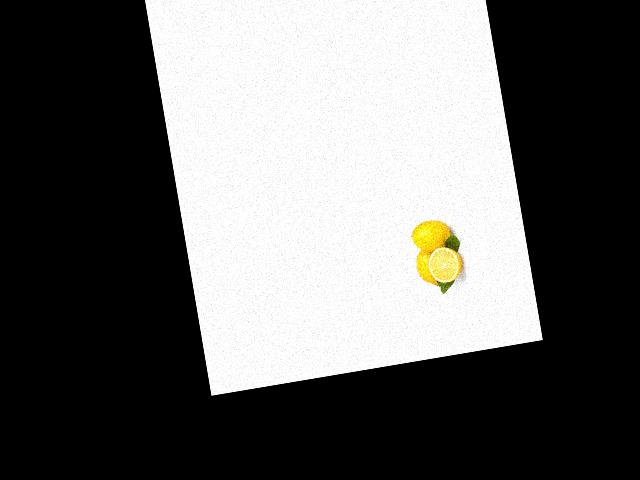lemon: (411, 249, 443, 291)
